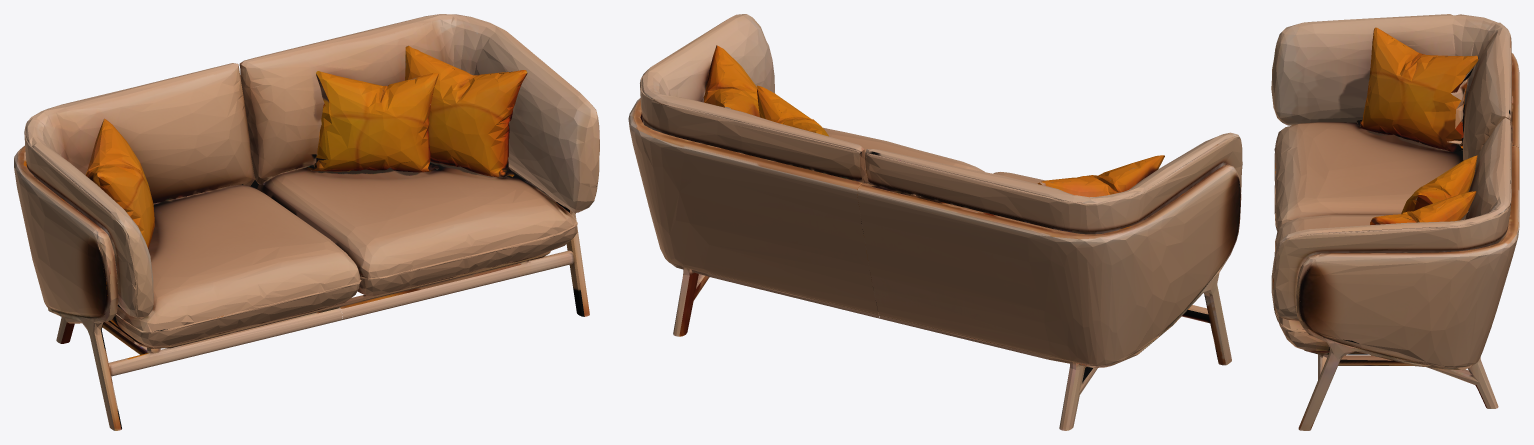
The model's file is edited_mesh.glb.
3 renders of one model, left to right at view 1: azimuth 30°, elevation 25°; view 2: azimuth 150°, elevation 25°; view 3: azimuth 270°, elevation 25°, orthographic. The views are drawn at different scales.
Parts seen in each view (by area): view 1: solid_001_wire; view 2: solid_001_wire; view 3: solid_001_wire.
Boxes of the visible parts, box(x1,y1,x2,y2) form: solid_001_wire: box(14, 14, 599, 430); solid_001_wire: box(628, 14, 1242, 430); solid_001_wire: box(1271, 14, 1519, 430).
Bounding box in the file's own units: 2 × 0.8758 × 0.9391.
Materials: 1 (1 with a texture image).
